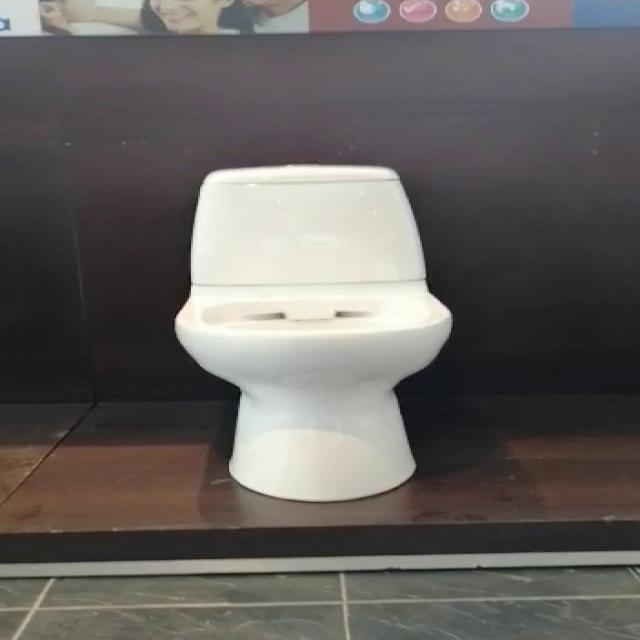toilet: (172, 163, 452, 502)
